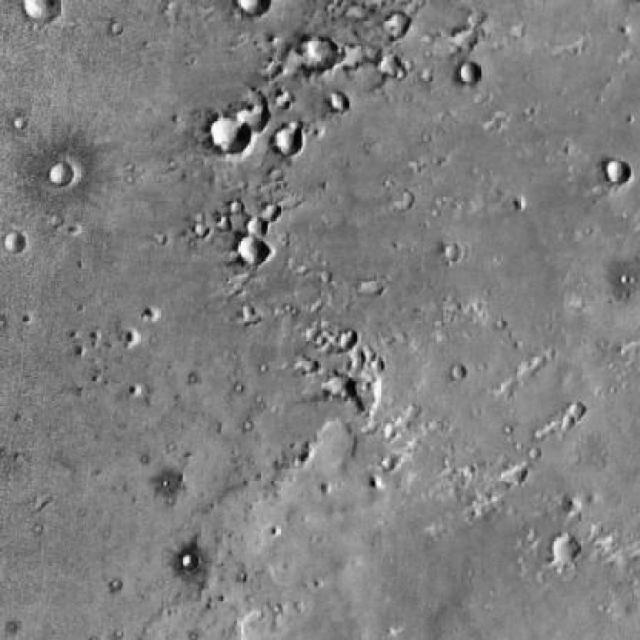crater: (206, 112, 249, 156), (313, 419, 355, 459), (233, 93, 269, 127), (598, 153, 628, 182), (237, 235, 266, 262), (274, 124, 300, 150), (46, 157, 72, 181), (550, 529, 576, 553), (384, 10, 408, 35), (309, 35, 333, 59), (324, 373, 348, 396), (456, 59, 478, 82), (453, 26, 475, 48), (242, 214, 264, 235), (325, 92, 347, 112), (5, 227, 26, 247), (377, 53, 398, 73), (504, 460, 524, 480), (572, 403, 590, 420), (192, 566, 210, 583), (352, 357, 370, 374), (345, 338, 363, 354), (459, 374, 476, 389), (268, 211, 284, 226)
